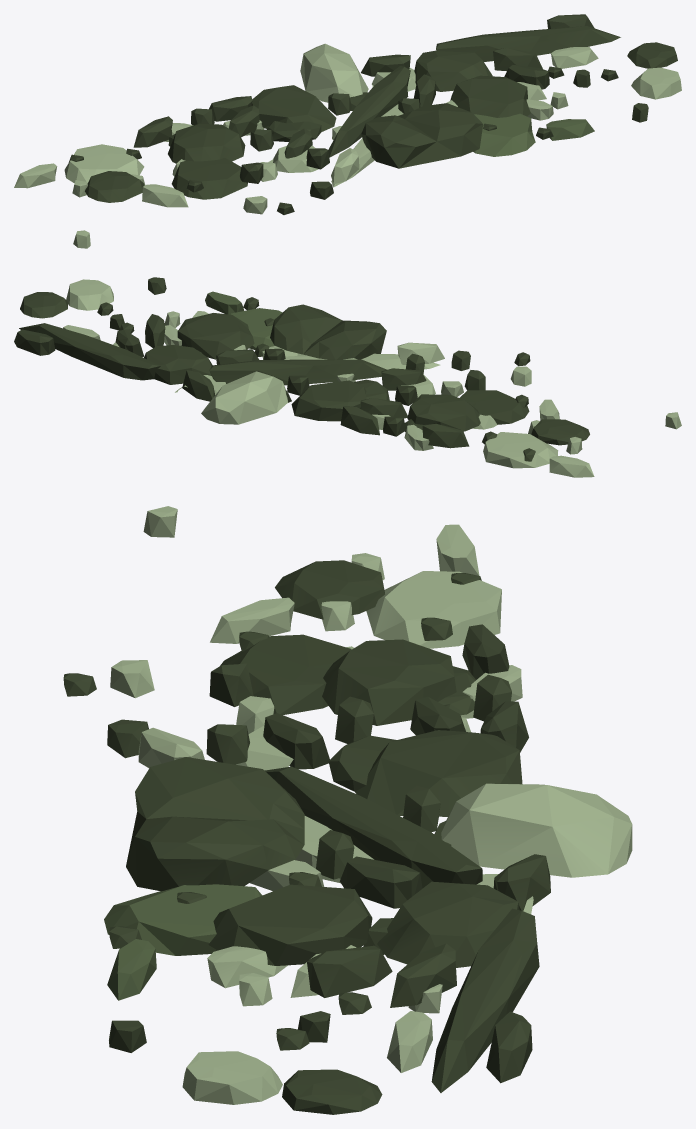
The model's file is EA_Swamp_StonesMud_04c.glb.
The picture shows the model from 3 angles, top to bottom: view 1: azimuth 30°, elevation 25°; view 2: azimuth 150°, elevation 25°; view 3: azimuth 270°, elevation 25°; orthographic projection. The views are drawn at different scales.
Parts seen in each view (by area): view 1: EA_Swamp_StonesMud_04c; view 2: EA_Swamp_StonesMud_04c; view 3: EA_Swamp_StonesMud_04c.
Part boxes in pixels (x1=…): EA_Swamp_StonesMud_04c: x1=14, y1=14, x2=681, y2=248; EA_Swamp_StonesMud_04c: x1=14, y1=277, x2=681, y2=477; EA_Swamp_StonesMud_04c: x1=63, y1=506, x2=632, y2=1114.
Size of the model in its own units: 8.69 by 0.4529 by 3.48.
1 material, 1 textured.
